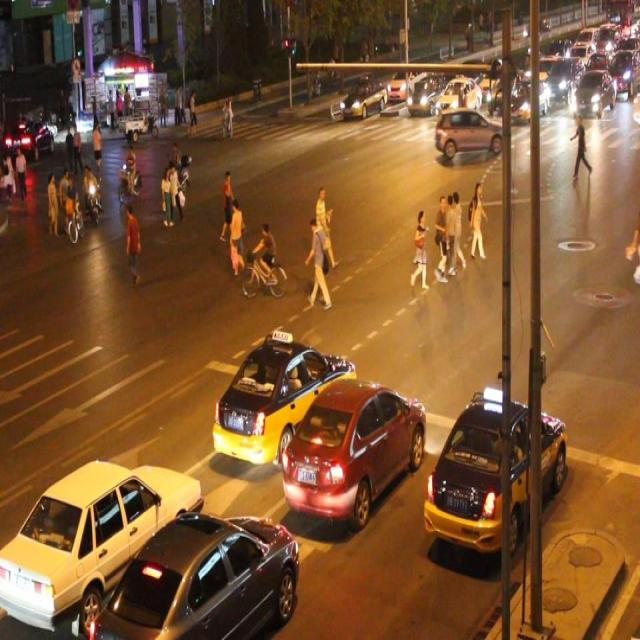car: (1, 452, 202, 630), (98, 507, 298, 640), (424, 389, 565, 553), (283, 378, 424, 522), (210, 331, 354, 464), (435, 110, 500, 158), (432, 74, 479, 116), (344, 74, 384, 119), (405, 76, 448, 108)
